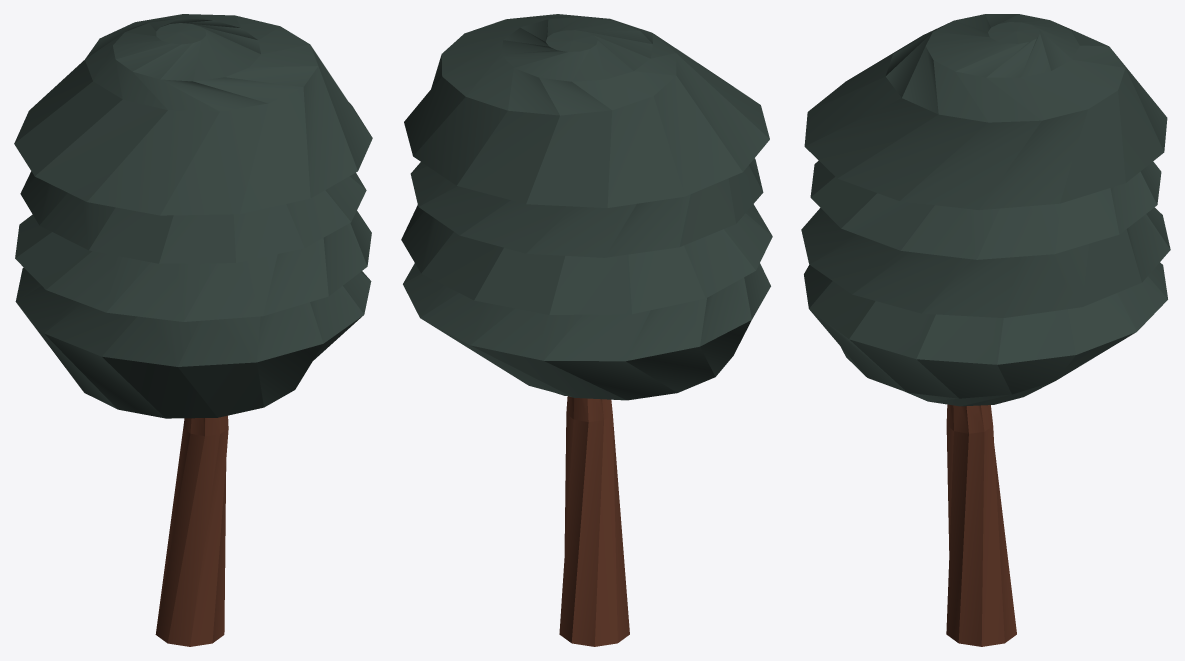
Rendered from preMajorTree.fbx.
3 views of the same model, side by side, from view 1: azimuth 30°, elevation 25°; view 2: azimuth 150°, elevation 25°; view 3: azimuth 270°, elevation 25° (orthographic). The views are drawn at different scales.
Visible parts, largest first — view 1: Model; view 2: Model; view 3: Model.
Boxes of the visible parts, x1,y1,x2,y2 form: Model: (14,14,372,646); Model: (401,14,772,646); Model: (801,14,1170,646).
Bounding box in the file's own units: 328 × 588 × 327.
